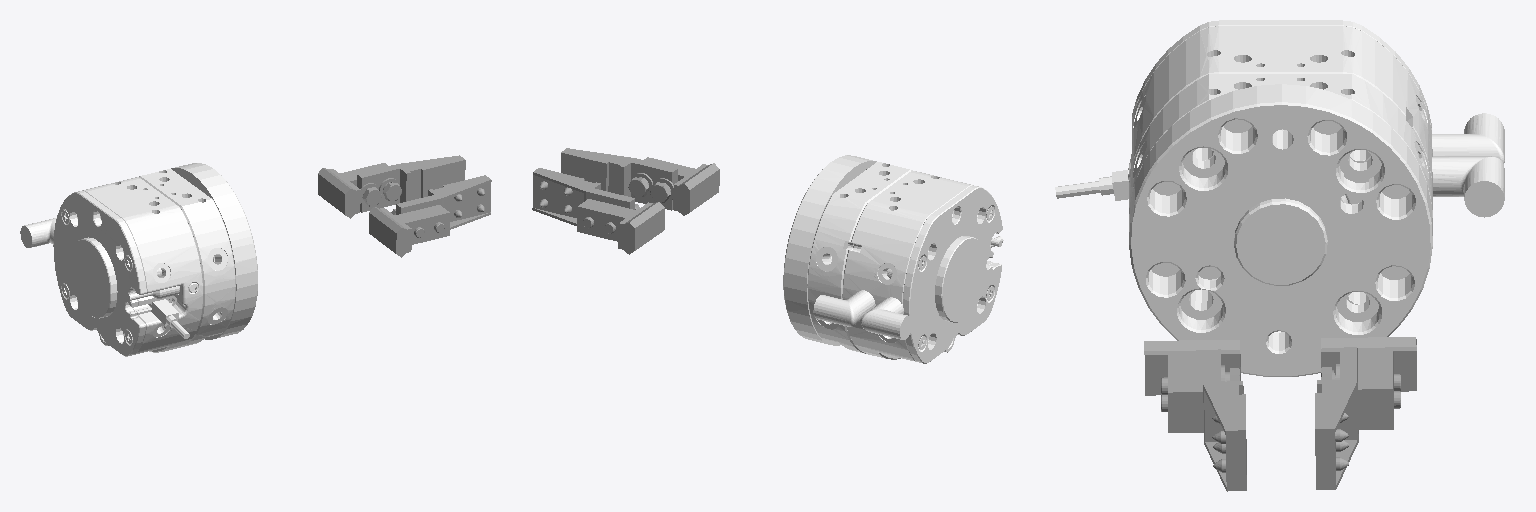
robot.urdf — aubo_urdf:
<?xml version="1.0" encoding="utf-8"?>
<!-- This URDF was automatically created by SolidWorks to URDF Exporter! Originally created by Stephen Brawner (brawner@gmail.com) 
     Commit Version: 1.6.0-4-g7f85cfe  Build Version: 1.6.7995.38578
     For more information, please see http://wiki.ros.org/sw_urdf_exporter -->
<robot
  name="aubo_urdf">
  <!-- 虚拟根链接，用于解决KDL不支持根链接有惯性参数的问题 -->
  <!-- 注意：根链接不能有任何惯性参数 -->
  <link
    name="base_link" />
  <joint
    name="base_joint"
    type="fixed">
    <origin
      xyz="0 0 0"
      rpy="0 0 0" />
    <parent
      link="base_link" />
    <child
      link="base1_link" />
  </joint>
  <link
    name="base1_link">
    <inertial>
      <origin
        xyz="0.13794 0.053728 0.43381"
        rpy="0 0 0" />
      <mass
        value="11.951" />
      <inertia
        ixx="0.040481"
        ixy="-4.1612E-08"
        ixz="0.00013797"
        iyy="0.04551"
        iyz="1.0214E-07"
        izz="0.022497" />
    </inertial>
    <visual>
      <origin
        xyz="0 0 0"
        rpy="0 0 0" />
      <geometry>
        <mesh
          filename="package://aubo_urdf/meshes/base1_link.STL" />
      </geometry>
      <material
        name="">
        <color
          rgba="1 1 1 1" />
      </material>
    </visual>
    <collision>
      <origin
        xyz="0 0 0"
        rpy="0 0 0" />
      <geometry>
        <mesh
          filename="package://aubo_urdf/meshes/base1_link.STL" />
      </geometry>
    </collision>
  </link>
  <link
    name="camera_Link">
    <inertial>
      <origin
        xyz="-0.0005963 0.085972 -0.026401"
        rpy="0 0 0" />
      <mass
        value="0.72743" />
      <inertia
        ixx="0.00064649"
        ixy="2.7688E-06"
        ixz="-2.0272E-05"
        iyy="0.0013072"
        iyz="8.2399E-05"
        izz="0.0014971" />
    </inertial>
    <visual>
      <origin
        xyz="0 0 0"
        rpy="0 0 0" />
      <geometry>
        <mesh
          filename="package://aubo_urdf/meshes/camera_Link.STL" />
      </geometry>
      <material
        name="">
        <color
          rgba="1 1 1 1" />
      </material>
    </visual>
    <collision>
      <origin
        xyz="0 0 0"
        rpy="0 0 0" />
      <geometry>
        <mesh
          filename="package://aubo_urdf/meshes/camera_Link.STL" />
      </geometry>
    </collision>
  </link>
  <joint
    name="camera_joint"
    type="fixed">
    <origin
      xyz="0.28779 0.053728 1.0181"
      rpy="1.5708 0 1.5708" />
    <parent
      link="base1_link" />
    <child
      link="camera_Link" />
    <axis
      xyz="0 0 0" />
  </joint>
  <link
    name="kuaihuan_Link">
    <inertial>
      <origin
        xyz="-0.00074639 7.4616E-05 0.0097884"
        rpy="0 0 0" />
      <mass
        value="0.21939" />
      <inertia
        ixx="6.3771E-05"
        ixy="4.2875E-07"
        ixz="-1.7848E-07"
        iyy="6.9403E-05"
        iyz="-4.5085E-07"
        izz="0.0001149" />
    </inertial>
    <visual>
      <origin
        xyz="0 0 0"
        rpy="0 0 0" />
      <geometry>
        <mesh
          filename="package://aubo_urdf/meshes/kuaihuan_Link.STL" />
      </geometry>
      <material
        name="">
        <color
          rgba="1 1 1 1" />
      </material>
    </visual>
    <collision>
      <origin
        xyz="0 0 0"
        rpy="0 0 0" />
      <geometry>
        <mesh
          filename="package://aubo_urdf/meshes/kuaihuan_Link.STL" />
      </geometry>
    </collision>
  </link>
  <joint
    name="kuaihuan_joint"
    type="fixed">
    <origin
      xyz="0 0 0.0215"
      rpy="0 0 3.1416" />
    <parent
      link="camera_Link" />
    <child
      link="kuaihuan_Link" />
    <axis
      xyz="0 0 0" />
  </joint>
  <link
    name="grap_Link">
    <inertial>
      <origin
        xyz="-1.7896E-05 0.034049 2.2204E-16"
        rpy="0 0 0" />
      <mass
        value="0.1827" />
      <inertia
        ixx="8.3598E-05"
        ixy="1.9801E-07"
        ixz="-1.0929E-07"
        iyy="4.5508E-05"
        iyz="3.0889E-08"
        izz="0.00010397" />
    </inertial>
    <visual>
      <origin
        xyz="0 0 0"
        rpy="0 0 0" />
      <geometry>
        <mesh
          filename="package://aubo_urdf/meshes/grap_Link.STL" />
      </geometry>
      <material
        name="">
        <color
          rgba="0.69804 0.69804 0.69804 1" />
      </material>
    </visual>
    <collision>
      <origin
        xyz="0 0 0"
        rpy="0 0 0" />
      <geometry>
        <mesh
          filename="package://aubo_urdf/meshes/grap_Link.STL" />
      </geometry>
    </collision>
  </link>
  <joint
    name="grap_joint"
    type="fixed">
    <origin
      xyz="0 0 0.031"
      rpy="1.5708 0 -3.1241" />
    <parent
      link="kuaihuan_Link" />
    <child
      link="grap_Link" />
    <axis
      xyz="0 0 0" />
  </joint>
  <link
    name="grap0_Link">
    <inertial>
      <origin
        xyz="0.0054631 0.023534 3.0043E-07"
        rpy="0 0 0" />
      <mass
        value="0.032548" />
      <inertia
        ixx="3.7445E-06"
        ixy="3.3476E-07"
        ixz="1.7283E-13"
        iyy="8.7532E-07"
        iyz="2.3846E-11"
        izz="3.5313E-06" />
    </inertial>
    <visual>
      <origin
        xyz="0 0 0"
        rpy="0 0 0" />
      <geometry>
        <mesh
          filename="package://aubo_urdf/meshes/grap0_Link.STL" />
      </geometry>
      <material
        name="">
        <color
          rgba="0.69804 0.69804 0.69804 1" />
      </material>
    </visual>
    <collision>
      <origin
        xyz="0 0 0"
        rpy="0 0 0" />
      <geometry>
        <mesh
          filename="package://aubo_urdf/meshes/grap0_Link.STL" />
      </geometry>
    </collision>
  </link>
  <joint
    name="grap0_joint"
    type="prismatic">
    <origin
      xyz="-0.009 0.06556 0"
      rpy="-3.1416 0 -3.1416" />
    <parent
      link="grap_Link" />
    <child
      link="grap0_Link" />
    <axis
      xyz="-1 0 0" />
    <limit
      lower="-0.02"
      upper="0.02"
      effort="10"
      velocity="0.1" />
  </joint>
  <link
    name="grap1_Link">
    <inertial>
      <origin
        xyz="0.0054631 0.023533 2.0614E-07"
        rpy="0 0 0" />
      <mass
        value="0.032548" />
      <inertia
        ixx="3.7444E-06"
        ixy="3.3472E-07"
        ixz="-7.6637E-11"
        iyy="8.7529E-07"
        iyz="-1.1804E-11"
        izz="3.5313E-06" />
    </inertial>
    <visual>
      <origin
        xyz="0 0 0"
        rpy="0 0 0" />
      <geometry>
        <mesh
          filename="package://aubo_urdf/meshes/grap1_Link.STL" />
      </geometry>
      <material
        name="">
        <color
          rgba="0.69804 0.69804 0.69804 1" />
      </material>
    </visual>
    <collision>
      <origin
        xyz="0 0 0"
        rpy="0 0 0" />
      <geometry>
        <mesh
          filename="package://aubo_urdf/meshes/grap1_Link.STL" />
      </geometry>
    </collision>
  </link>
  <joint
    name="grap1_joint"
    type="prismatic">
    <origin
      xyz="0.009 0.06556 0"
      rpy="0 0 0" />
    <parent
      link="grap_Link" />
    <child
      link="grap1_Link" />
    <axis
      xyz="1 0 0" />
    <limit
      lower="-0.02"
      upper="0.02"
      effort="10"
      velocity="0.1" />
  </joint>
</robot>

--- Render facts (derived) ---
3 views of the same robot in one strip: view 1: azimuth 30°, elevation 25°; view 2: azimuth 150°, elevation 25°; view 3: azimuth 270°, elevation 25° (orthographic).
Robot: aubo_urdf — 7 links, 6 joints (2 prismatic, 4 fixed); root link base_link; default pose: every joint at zero.
Visible links, largest first — view 1: kuaihuan_Link, grap1_Link, grap0_Link; view 2: kuaihuan_Link, grap1_Link, grap0_Link; view 3: kuaihuan_Link, grap1_Link, grap0_Link.
Boxes of the visible links, x1,y1,x2,y2 form: kuaihuan_Link: (20,163,257,356); grap1_Link: (318,155,465,218); grap0_Link: (369,175,491,257); kuaihuan_Link: (783,155,1003,363); grap1_Link: (532,168,664,254); grap0_Link: (561,148,719,215); kuaihuan_Link: (1055,20,1504,376); grap1_Link: (1315,337,1416,489); grap0_Link: (1144,340,1246,491).
Size in the robot's own frame: 0.1738 by 0.1004 by 0.068 metres.
Meshes: 6 distinct files referenced, 3 mesh visuals loaded (3 binary STL); not drawn: 3 (reference not matched to a file when rendering).
